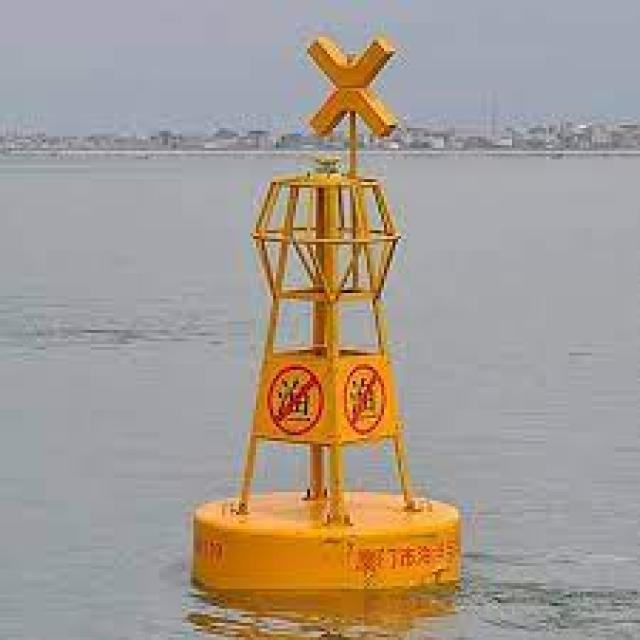marque: (166, 1, 481, 603)
